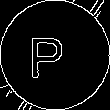P_N: (36, 29, 74, 81)
